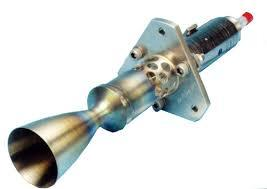thruster: (7, 106, 101, 188)
